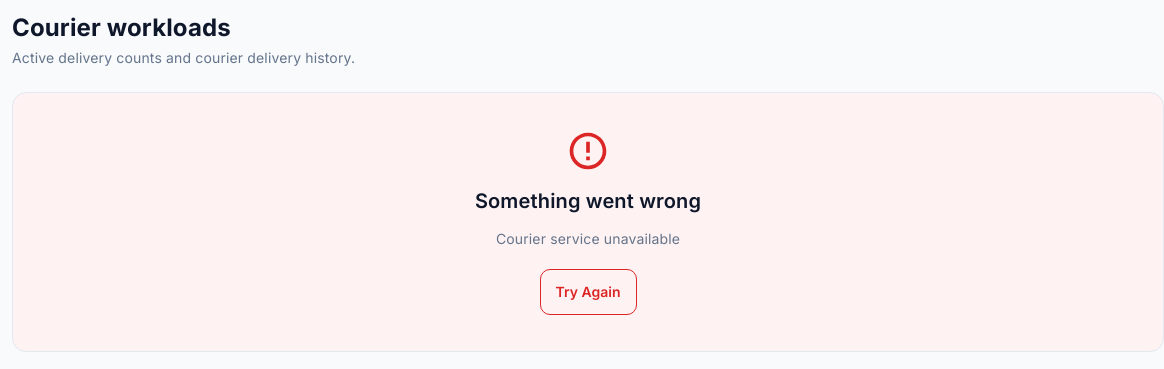
it: TST-040 Member #7 courier workloads › shows a courier workload error and retries
Check: the text "Courier service unavailable" is shown, box [496,229,680,249]
Click the button "Try Again": {"x": 588, "y": 292} [540,269,636,315]
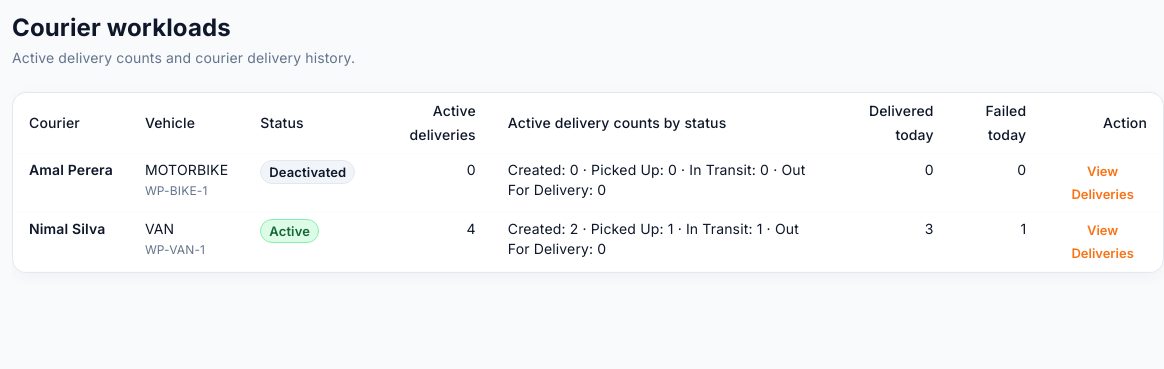
Check: the table named "Courier workloads" is shown, box [13,93,1163,272]
